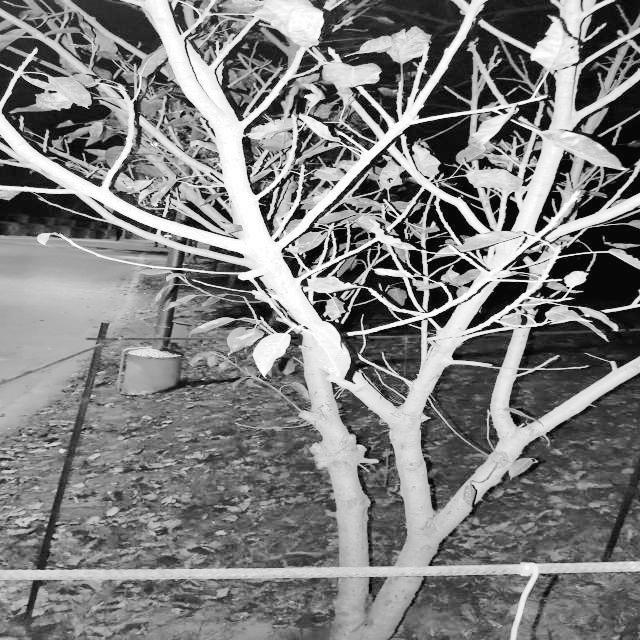Tree: (151, 0, 615, 640)
